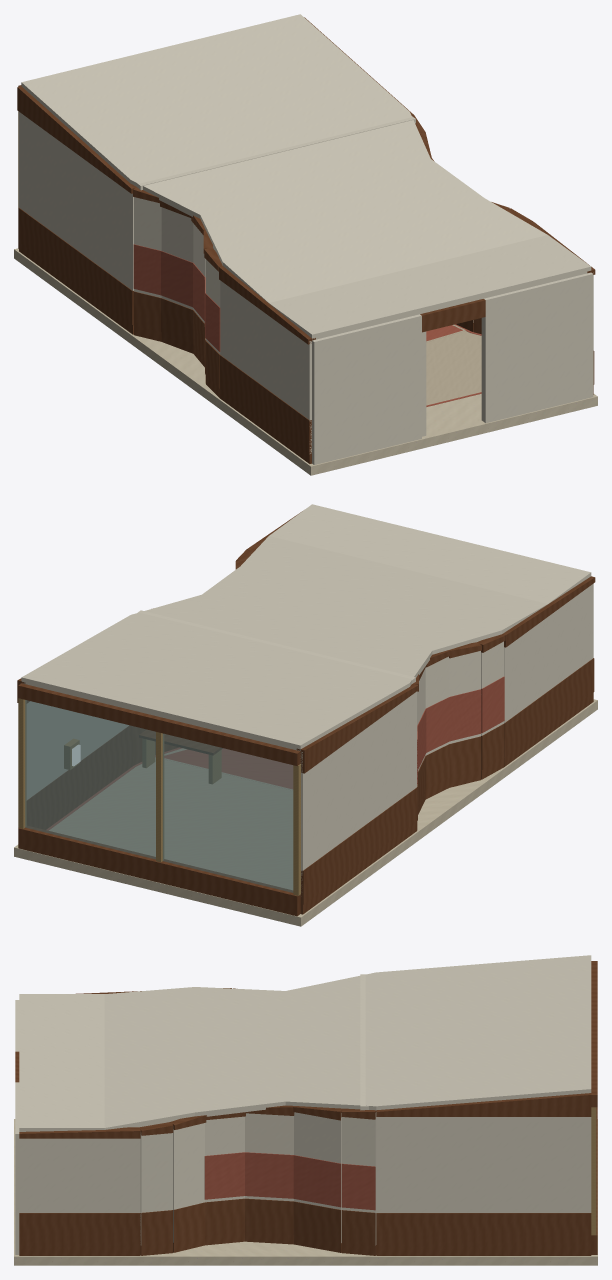
The model's file is shell.glb.
3 views of the same model, one above another, from view 1: azimuth 30°, elevation 25°; view 2: azimuth 150°, elevation 25°; view 3: azimuth 270°, elevation 25° (orthographic).
Visible parts, largest first — view 1: SUI_Runtime_ivory_enamel, SUI_Runtime_warm_walnut, SUI_Runtime_warm_stone, SUI_Runtime_clay_weave, SUI_Runtime_oatmeal_weave; view 2: SUI_Runtime_ivory_enamel, SUI_Runtime_warm_walnut, SUI_Runtime_SuiteHospitalityGlass, SUI_Runtime_oatmeal_weave, SUI_Runtime_warm_stone, SUI_Runtime_clay_weave, SUI_Runtime_champagne_metal; view 3: SUI_Runtime_ivory_enamel, SUI_Runtime_warm_walnut, SUI_Runtime_warm_stone, SUI_Runtime_clay_weave, SUI_Runtime_champagne_metal.
Part boxes in pixels (x1,y1,x2,y2): SUI_Runtime_ivory_enamel: [19, 14, 593, 464]; SUI_Runtime_warm_walnut: [17, 17, 595, 463]; SUI_Runtime_warm_stone: [14, 248, 597, 475]; SUI_Runtime_clay_weave: [133, 244, 481, 406]; SUI_Runtime_oatmeal_weave: [213, 248, 481, 405]; SUI_Runtime_ivory_enamel: [21, 504, 593, 885]; SUI_Runtime_warm_walnut: [17, 511, 595, 916]; SUI_Runtime_SuiteHospitalityGlass: [25, 700, 293, 892]; SUI_Runtime_oatmeal_weave: [49, 748, 292, 889]; SUI_Runtime_warm_stone: [14, 699, 597, 926]; SUI_Runtime_clay_weave: [46, 676, 504, 830]; SUI_Runtime_champagne_metal: [18, 698, 300, 895]; SUI_Runtime_ivory_enamel: [15, 955, 591, 1254]; SUI_Runtime_warm_walnut: [15, 961, 597, 1255]; SUI_Runtime_warm_stone: [14, 1119, 597, 1265]; SUI_Runtime_clay_weave: [204, 1152, 375, 1210]; SUI_Runtime_champagne_metal: [591, 1107, 596, 1235].
Size of the model in its own units: 7.2 by 4.26 by 12.9.
8 materials, 6 textured.
